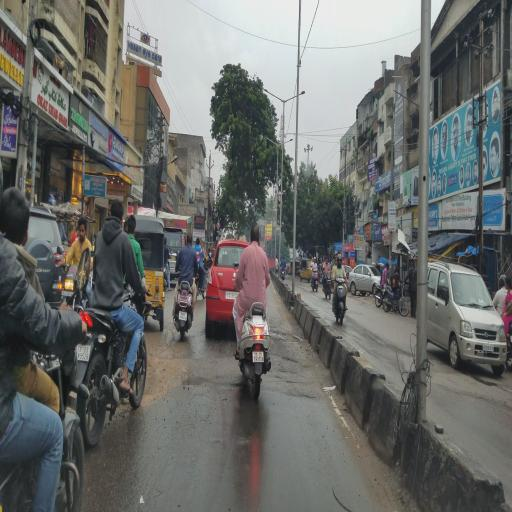street_light_0: (258, 84, 284, 110), (284, 85, 308, 111), (261, 126, 280, 150), (277, 134, 295, 154)
